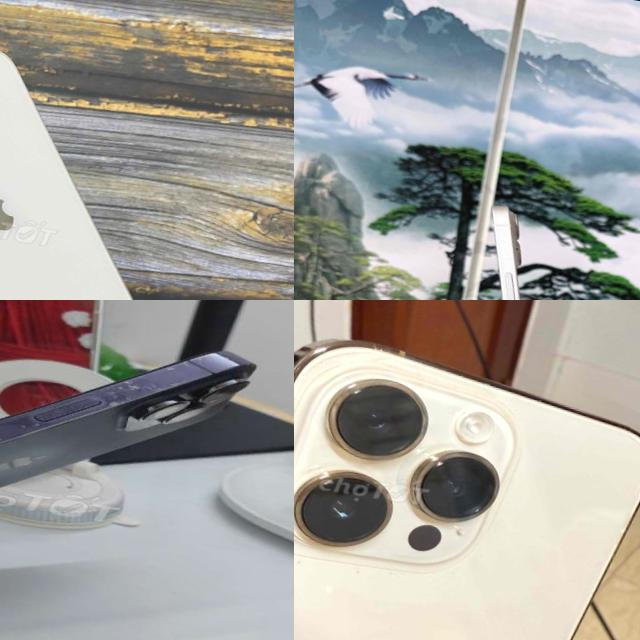gen_12_13: (0, 16, 199, 300)
gen_14: (294, 312, 640, 640), (0, 300, 261, 627), (437, 201, 592, 300)
